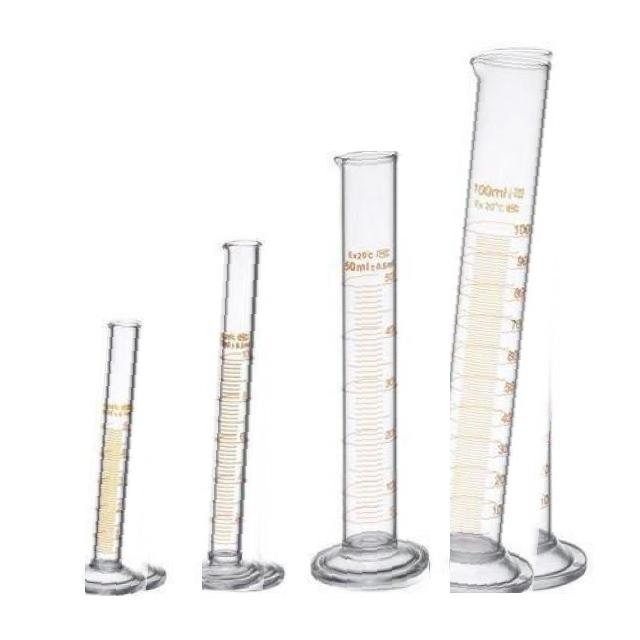Glass: (450, 45, 588, 593), (310, 151, 430, 593), (202, 239, 284, 592), (85, 316, 168, 596)
